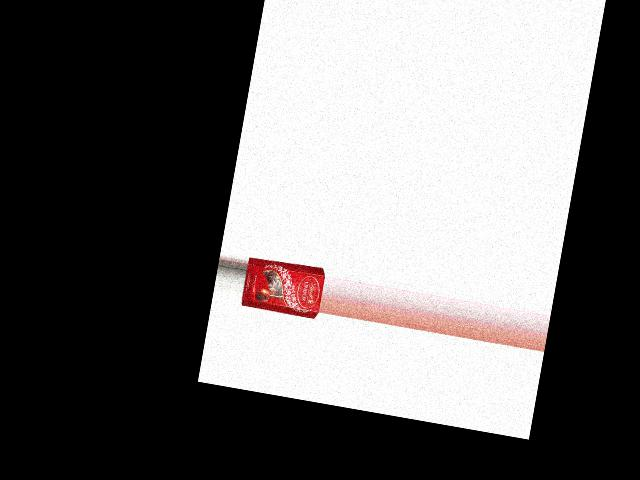chocolate: (239, 254, 326, 323)
